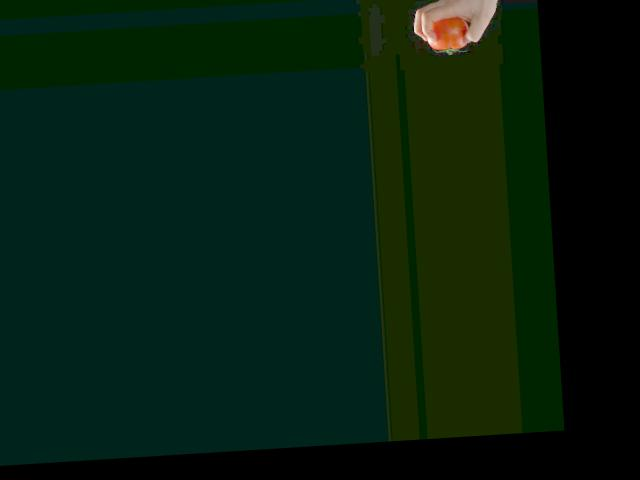tomato: (426, 17, 470, 55)
